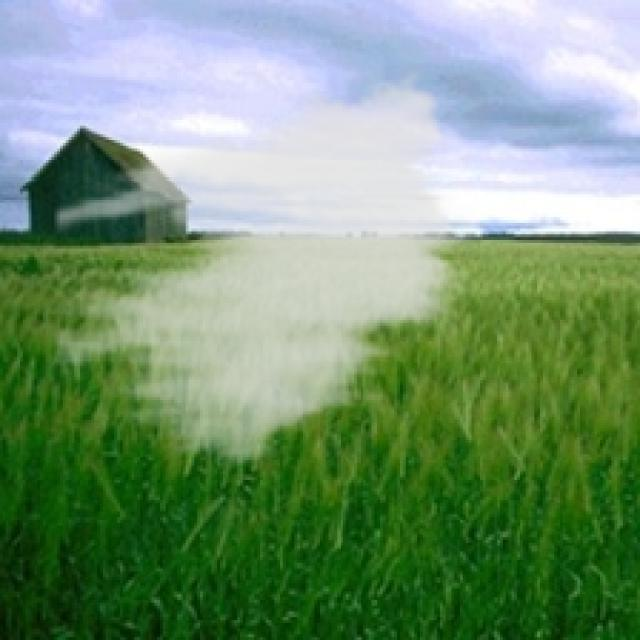Smoke: (54, 60, 477, 477)
